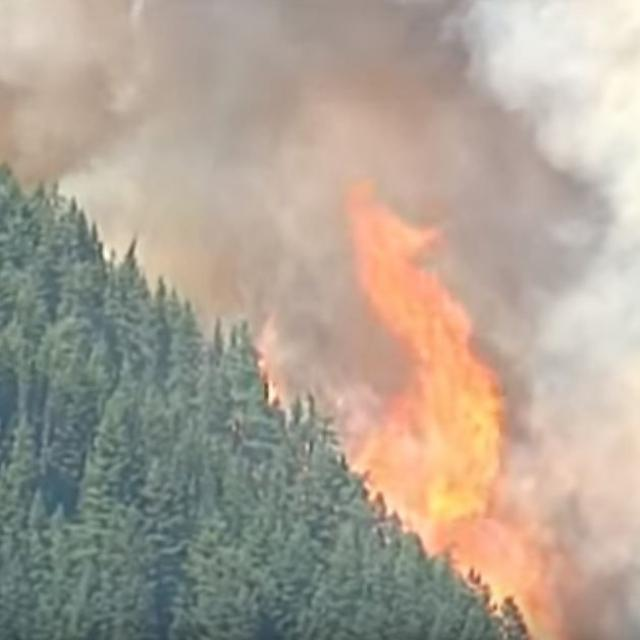Fire: (262, 194, 540, 602)
Smoke: (0, 0, 640, 635)
